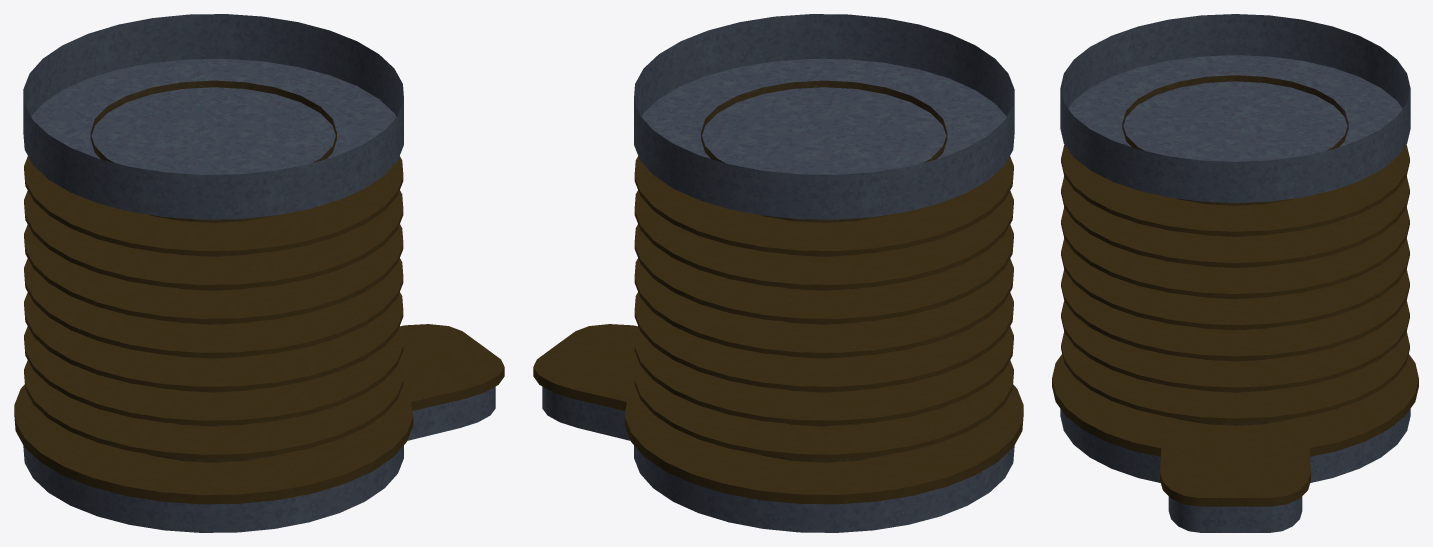
The model's file is BookStand1.fbx.
3 renders of one model, left to right at view 1: azimuth 30°, elevation 25°; view 2: azimuth 150°, elevation 25°; view 3: azimuth 270°, elevation 25°, orthographic. The views are drawn at different scales.
Visible parts, largest first — view 1: BookStand1; view 2: BookStand1; view 3: BookStand1.
Boxes of the visible parts, <box> form: BookStand1: <box>14,14,504,532</box>; BookStand1: <box>533,14,1023,532</box>; BookStand1: <box>1052,14,1418,532</box>.
Size of the model in its own units: 771 by 598 by 605.
Materials: 1 (1 with a texture image).
